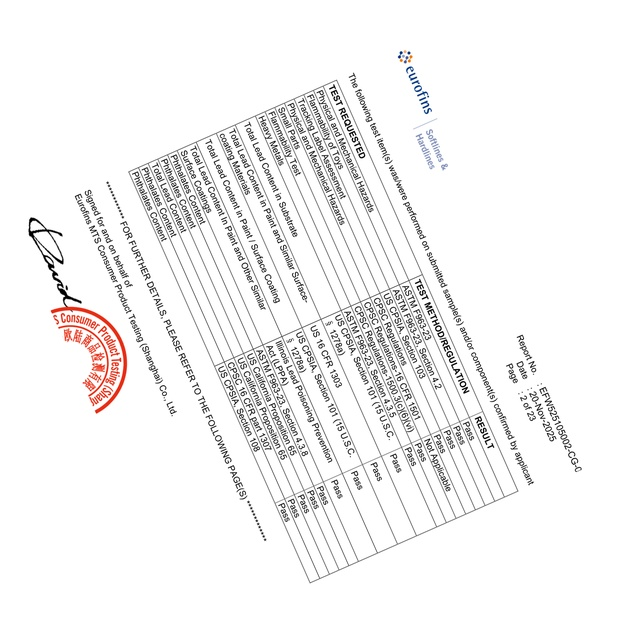eurofins: (397, 46, 436, 118)
